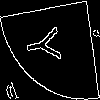Y: (25, 24, 70, 65)
